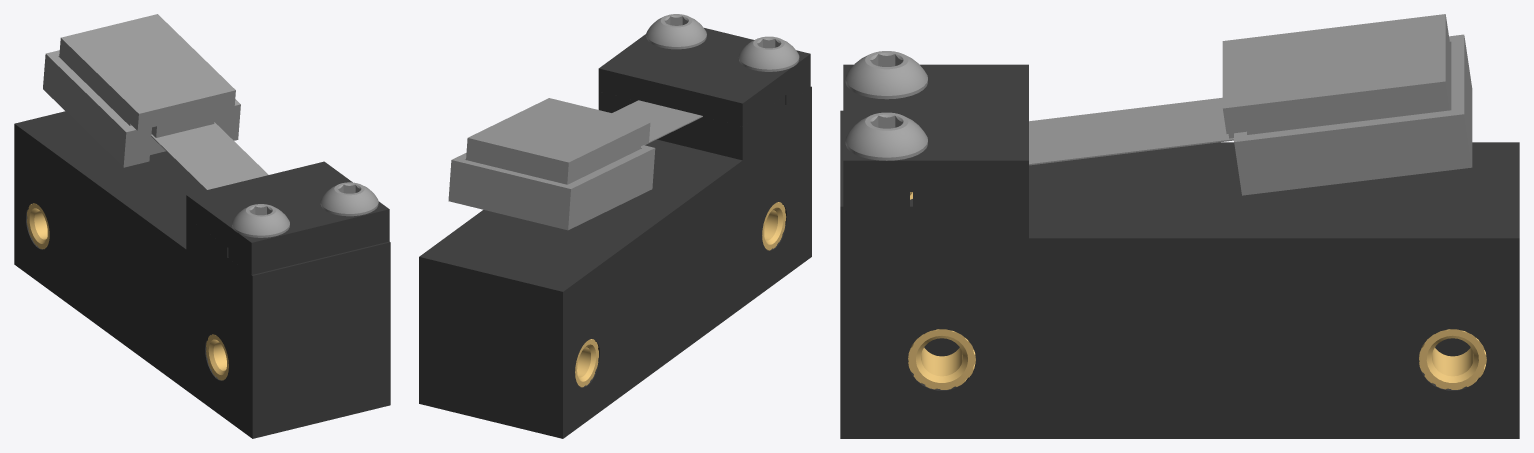
3 views of the same model, side by side, from view 1: azimuth 30°, elevation 25°; view 2: azimuth 150°, elevation 25°; view 3: azimuth 270°, elevation 25° (orthographic). The views are drawn at different scales.
Visible parts, largest first — view 1: Spring Steel Body, Silicone Jig, Clamp, Silicone Jig001, Spring Steel, M3x8 BHCS001, M3x8 BHCS, Heat Insert003, Heat Insert001; view 2: Spring Steel Body, Clamp, Silicone Jig, Silicone Jig001, M3x8 BHCS, M3x8 BHCS001, Spring Steel, Heat Insert001, Heat Insert003; view 3: Spring Steel Body, Silicone Jig, Clamp, Silicone Jig001, Spring Steel, M3x8 BHCS001, M3x8 BHCS, Heat Insert005, Heat Insert.
Boxes of the visible parts, left/top/right/bottom form: Spring Steel Body: left=14, top=111, right=390, bottom=438; Silicone Jig: left=59, top=14, right=235, bottom=137; Clamp: left=186, top=161, right=389, bottom=274; Silicone Jig001: left=43, top=50, right=240, bottom=167; Spring Steel: left=151, top=122, right=268, bottom=190; M3x8 BHCS001: left=320, top=182, right=378, bottom=216; M3x8 BHCS: left=232, top=204, right=289, bottom=237; Heat Insert003: left=27, top=203, right=49, bottom=249; Heat Insert001: left=206, top=334, right=228, bottom=380; Spring Steel Body: left=419, top=86, right=811, bottom=438; Clamp: left=598, top=28, right=810, bottom=126; Silicone Jig: left=466, top=98, right=650, bottom=184; Silicone Jig001: left=448, top=145, right=655, bottom=230; M3x8 BHCS: left=738, top=36, right=799, bottom=71; M3x8 BHCS001: left=646, top=14, right=706, bottom=49; Spring Steel: left=612, top=100, right=702, bottom=145; Heat Insert001: left=762, top=202, right=786, bottom=250; Heat Insert003: left=575, top=339, right=598, bottom=387; Spring Steel Body: left=840, top=110, right=1519, bottom=438; Silicone Jig: left=1222, top=14, right=1451, bottom=138; Clamp: left=843, top=64, right=1028, bottom=206; Silicone Jig001: left=1234, top=34, right=1472, bottom=195; Spring Steel: left=1029, top=97, right=1233, bottom=165; M3x8 BHCS001: left=845, top=112, right=927, bottom=160; M3x8 BHCS: left=845, top=51, right=927, bottom=99; Heat Insert005: left=908, top=329, right=975, bottom=389; Heat Insert: left=1419, top=329, right=1486, bottom=389.
Bounding box in the file's own units: 0.0157 × 0.0261 × 0.0468.
